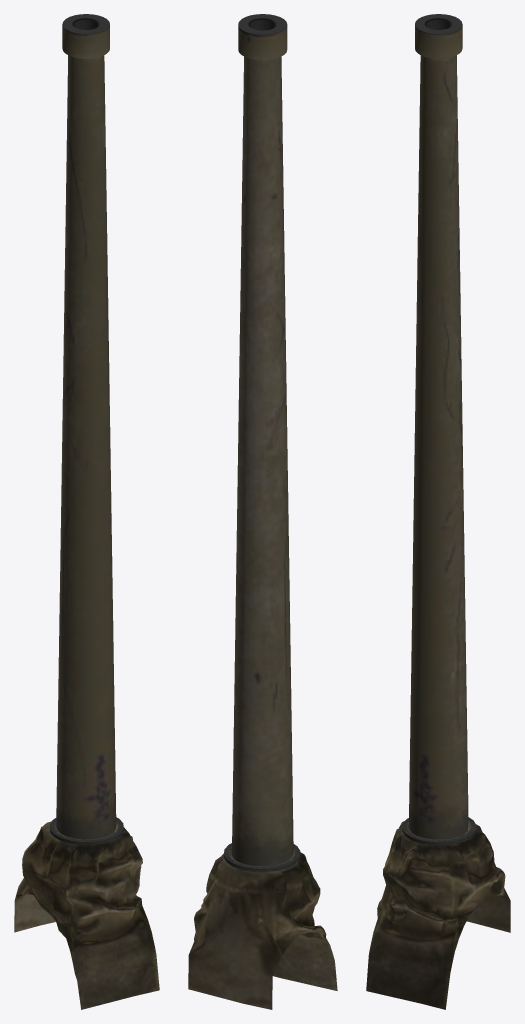
The model's file is Gun_04.glb.
3 renders of one model, left to right at view 1: azimuth 30°, elevation 25°; view 2: azimuth 150°, elevation 25°; view 3: azimuth 330°, elevation 25°, orthographic. The views are drawn at different scales.
Visible parts, largest first — view 1: set_0_group_0; view 2: set_0_group_0; view 3: set_0_group_0.
Boxes of the visible parts, x1=… form: set_0_group_0: x1=14, y1=14, x2=159, y2=1009; set_0_group_0: x1=188, y1=14, x2=337, y2=1009; set_0_group_0: x1=366, y1=14, x2=510, y2=1009.
Bounding box in the file's own units: 0.3992 × 3.82 × 0.4895.
1 material, 1 textured.
